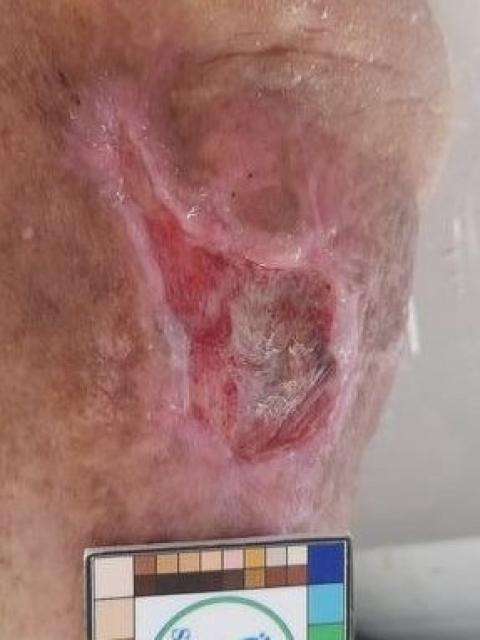wound: (104, 118, 345, 463)
